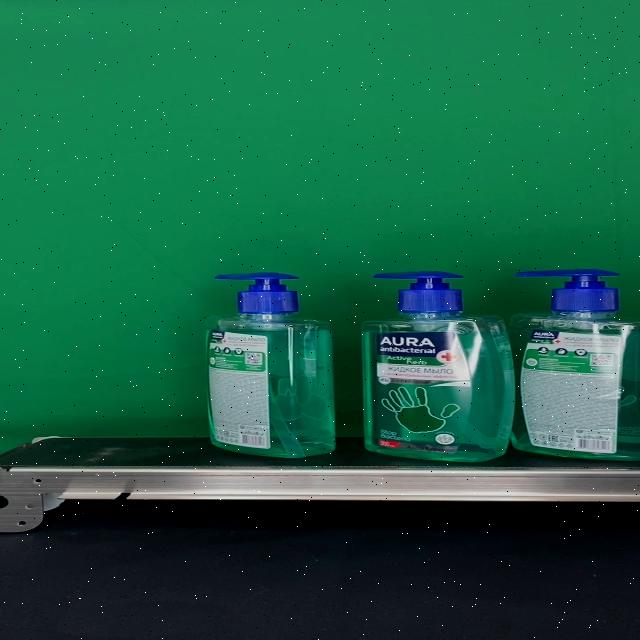Bottle: (361, 271, 515, 463), (508, 270, 640, 460), (204, 273, 335, 458)
Cap: (515, 269, 619, 312), (373, 272, 463, 313), (213, 273, 300, 314)
